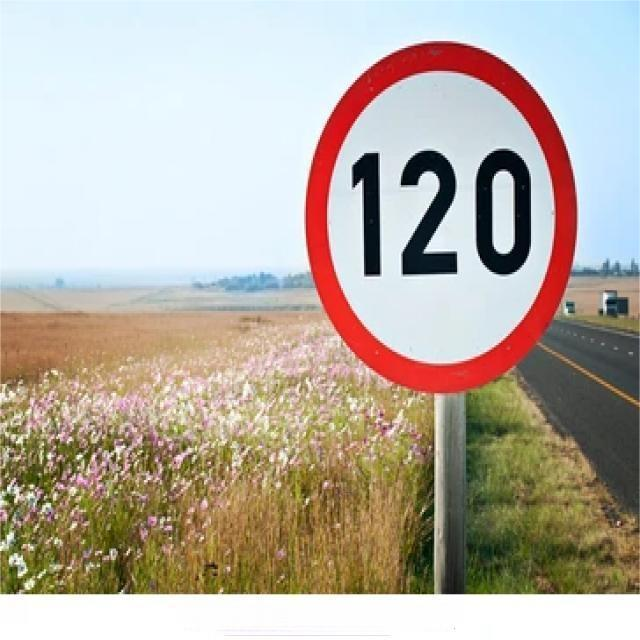speed limit 120: (301, 37, 580, 393)
